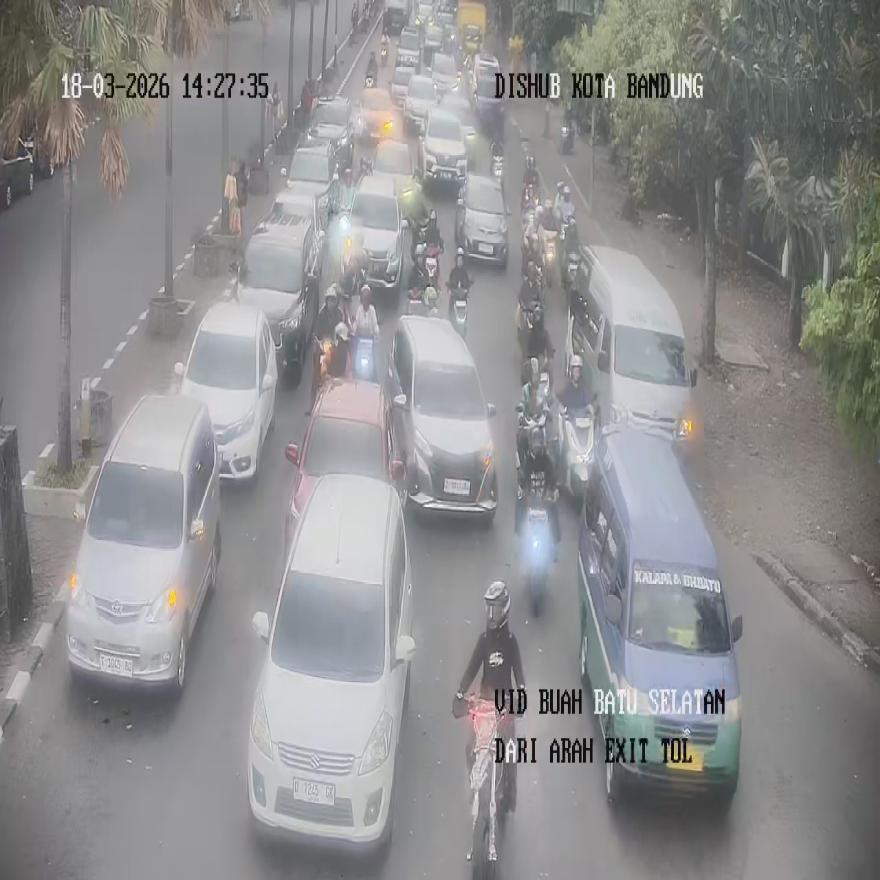Bis mini: (566, 244, 698, 456)
Mobil: (245, 475, 416, 852), (578, 423, 742, 803), (65, 395, 220, 693), (284, 378, 406, 564), (388, 316, 498, 514), (173, 298, 277, 479), (229, 207, 322, 380)
Motor: (455, 693, 516, 879), (558, 397, 596, 506), (520, 498, 555, 612), (351, 331, 377, 383), (446, 279, 468, 336), (562, 220, 579, 290), (520, 154, 538, 216), (540, 227, 558, 288), (490, 141, 504, 188), (560, 117, 574, 154), (364, 51, 376, 88), (379, 33, 388, 65)
